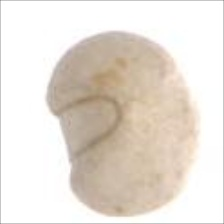L5: (51, 94, 129, 166), (168, 62, 200, 122)
L6: (44, 27, 205, 217)
